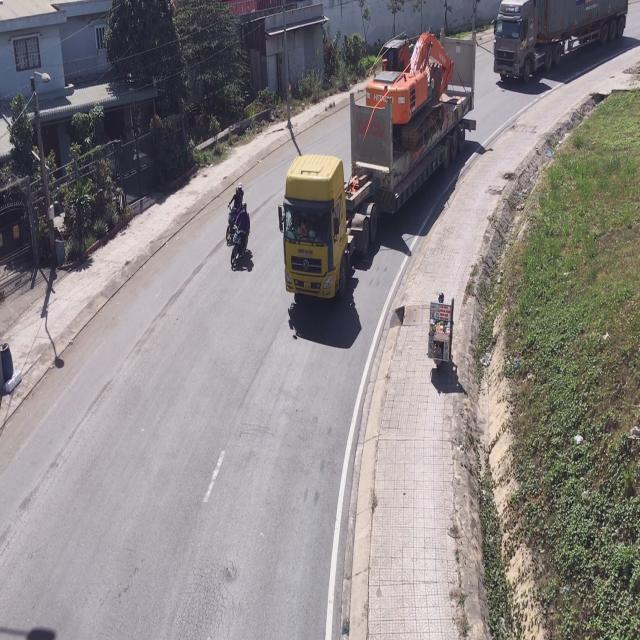motorbike: (426, 289, 456, 372), (230, 201, 250, 271), (224, 184, 241, 242)
truck: (280, 32, 476, 311), (493, 0, 631, 85)
